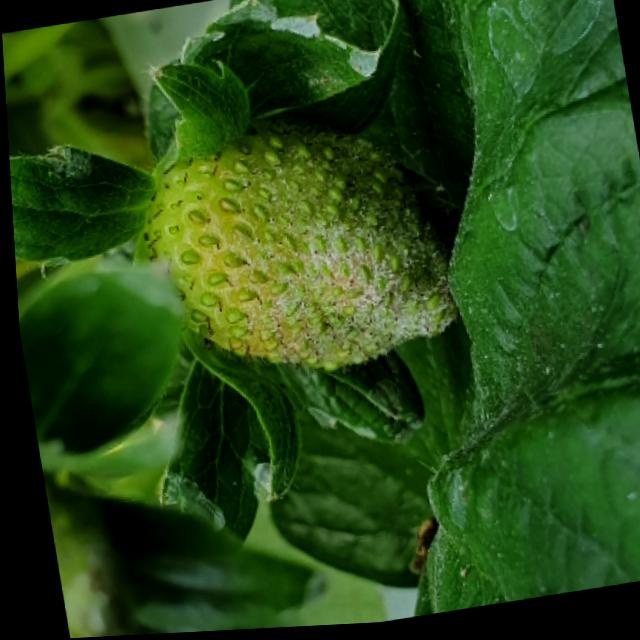Powdery Mildew Fruit: (218, 126, 454, 370)
